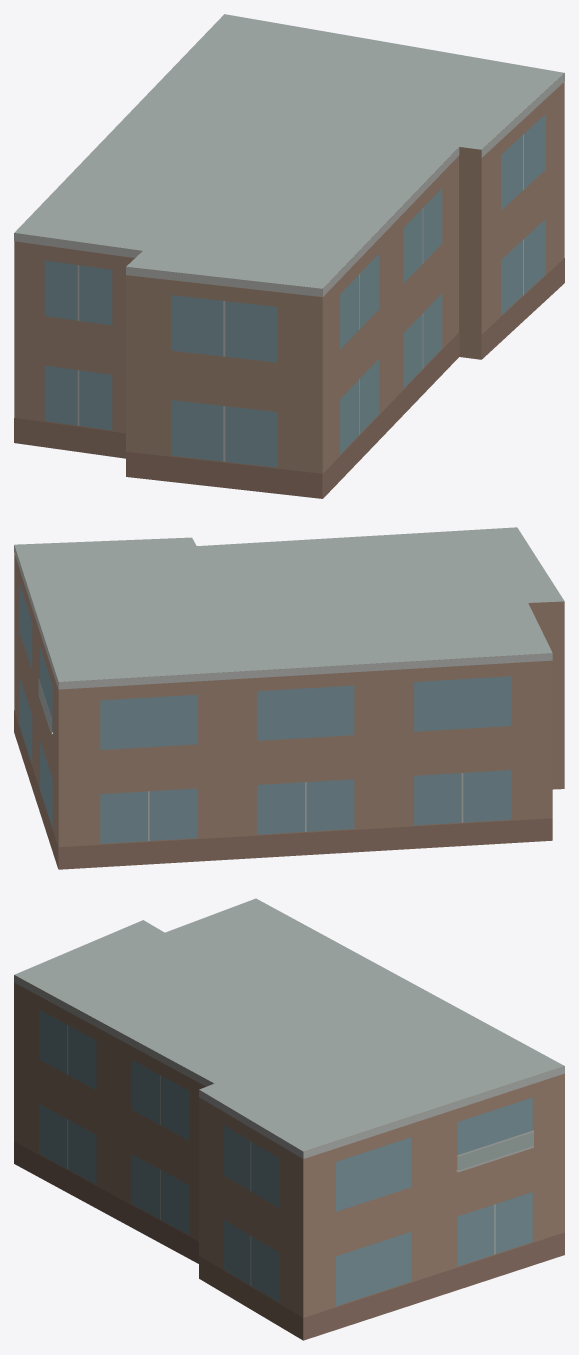
Rendered from survey-upis-32820740.glb.
3 renders of one model, top to bottom at view 1: azimuth 30°, elevation 25°; view 2: azimuth 150°, elevation 25°; view 3: azimuth 270°, elevation 25°, orthographic. The views are drawn at different scales.
Parts seen in each view (by area): view 1: survey-upis-32820740.tmp; view 2: survey-upis-32820740.tmp; view 3: survey-upis-32820740.tmp.
Part boxes in pixels (bbox=[...]): survey-upis-32820740.tmp: bbox=[14, 14, 564, 498]; survey-upis-32820740.tmp: bbox=[14, 527, 564, 869]; survey-upis-32820740.tmp: bbox=[14, 898, 564, 1340].
Bounding box in the file's own units: 17.54 × 6.1 × 16.12.
